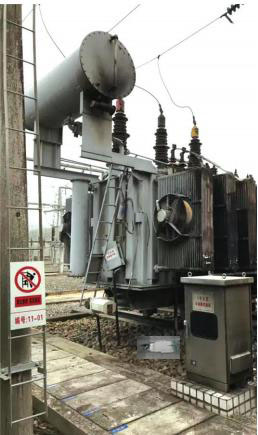oil: (137, 335, 182, 361)
